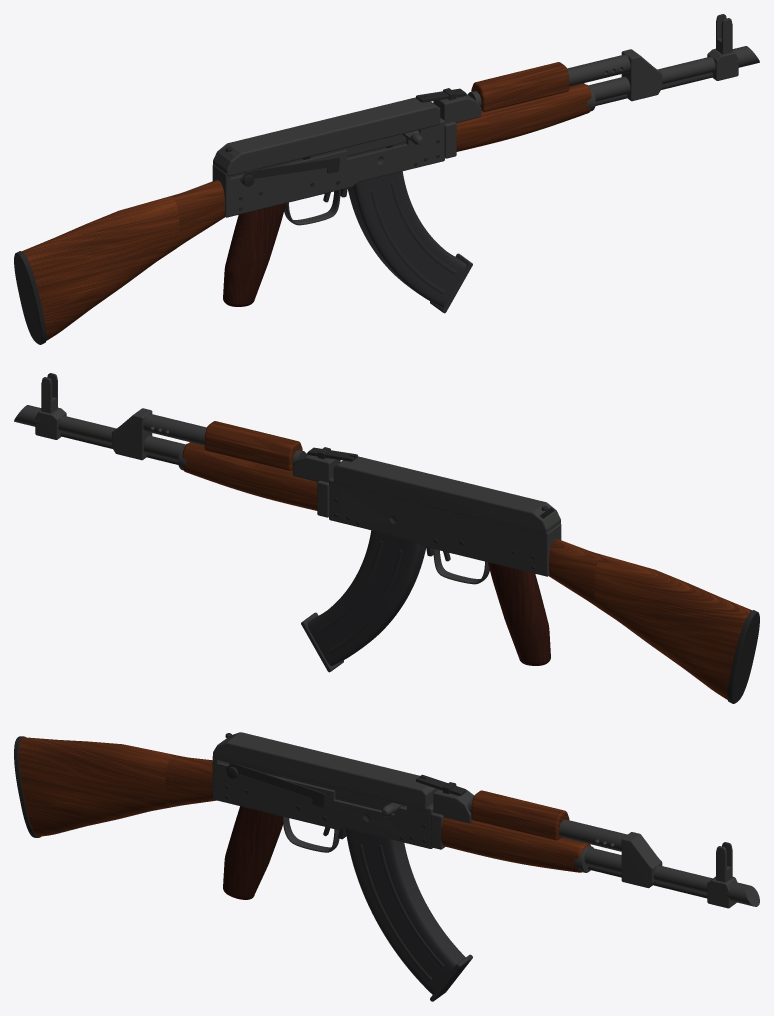
3 renders of one model, top to bottom at view 1: azimuth 30°, elevation 25°; view 2: azimuth 150°, elevation 25°; view 3: azimuth 330°, elevation 25°, orthographic.
Parts seen in each view (by area): view 1: coronha, pente, tampa, caixa, guarda_mao_inferior, punho, guarda_mao_superior, soleira, cano, bloco_gas, massa_mira, tubo_gas (+3 smaller); view 2: coronha, caixa, pente, tampa, guarda_mao_inferior, punho, guarda_mao_superior, soleira, cano, bloco_gas, massa_mira, tubo_gas (+1 smaller); view 3: coronha, pente, caixa, tampa, guarda_mao_inferior, punho, guarda_mao_superior, bloco_gas, cano, tubo_gas, massa_mira, seletor (+7 smaller).
Part boxes in pixels (bbox=[...]): coronha: bbox=[22, 179, 224, 340]; pente: bbox=[347, 171, 472, 313]; tampa: bbox=[213, 97, 440, 176]; caixa: bbox=[212, 118, 444, 217]; guarda_mao_inferior: bbox=[456, 83, 591, 151]; punho: bbox=[223, 203, 285, 306]; guarda_mao_superior: bbox=[471, 62, 569, 111]; soleira: bbox=[14, 251, 46, 344]; cano: bbox=[589, 56, 715, 101]; bloco_gas: bbox=[621, 49, 662, 101]; massa_mira: bbox=[707, 14, 738, 80]; tubo_gas: bbox=[468, 54, 630, 106]; coronha: bbox=[549, 538, 751, 699]; caixa: bbox=[329, 477, 561, 576]; pente: bbox=[301, 530, 426, 672]; tampa: bbox=[333, 456, 560, 535]; guarda_mao_inferior: bbox=[182, 442, 317, 510]; punho: bbox=[488, 562, 550, 665]; guarda_mao_superior: bbox=[204, 421, 302, 470]; soleira: bbox=[727, 610, 759, 703]; cano: bbox=[58, 415, 184, 460]; bloco_gas: bbox=[111, 408, 152, 460]; massa_mira: bbox=[35, 373, 66, 439]; tubo_gas: bbox=[143, 413, 305, 465]; coronha: bbox=[18, 737, 216, 836]; pente: bbox=[345, 828, 472, 1001]; caixa: bbox=[212, 756, 433, 848]; tampa: bbox=[213, 732, 437, 810]; guarda_mao_inferior: bbox=[441, 817, 590, 872]; punho: bbox=[223, 806, 282, 899]; guarda_mao_superior: bbox=[471, 790, 569, 840]; bloco_gas: bbox=[621, 832, 662, 888]; cano: bbox=[585, 847, 712, 892]; tubo_gas: bbox=[467, 797, 627, 851]; massa_mira: bbox=[707, 842, 737, 908]; seletor: bbox=[226, 763, 325, 807].
Bounding box in the file's own units: 889 × 255 × 57.
8 materials, 2 textured.
